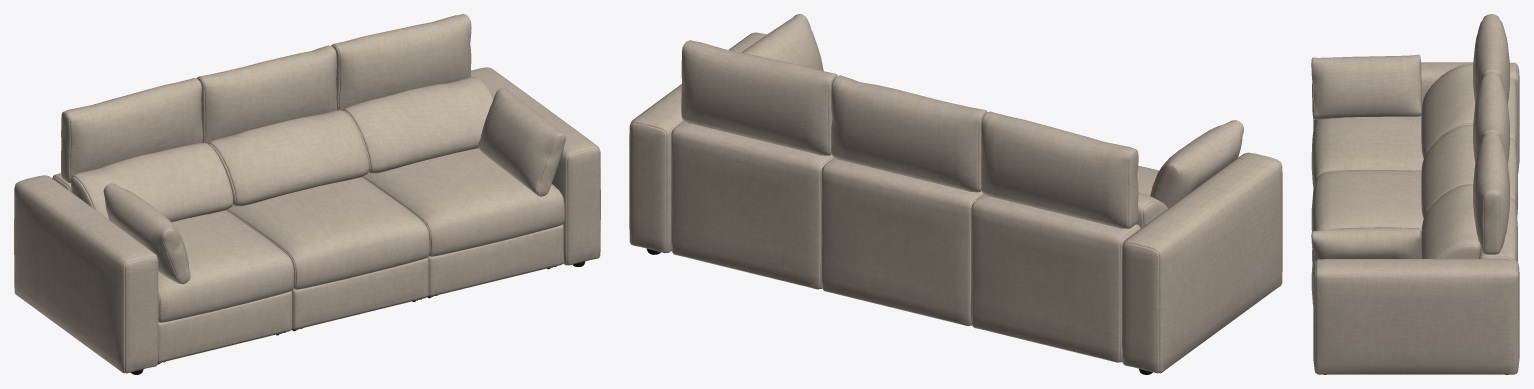
Rendered from eskilstuna_sofa_3_osobowa_39537397.glb.
3 renders of one model, left to right at view 1: azimuth 30°, elevation 25°; view 2: azimuth 150°, elevation 25°; view 3: azimuth 270°, elevation 25°, orthographic. The views are drawn at different scales.
Parts seen in each view (by area): view 1: eskilstuna_sofa_3_osobowa_39537397; view 2: eskilstuna_sofa_3_osobowa_39537397; view 3: eskilstuna_sofa_3_osobowa_39537397.
Boxes of the visible parts, <box> form: eskilstuna_sofa_3_osobowa_39537397: <box>14,14,600,374</box>; eskilstuna_sofa_3_osobowa_39537397: <box>629,14,1282,374</box>; eskilstuna_sofa_3_osobowa_39537397: <box>1311,14,1519,374</box>.
Size of the model in its own units: 2.66 by 1 by 1.08.
Materials: 1 (1 with a texture image).
